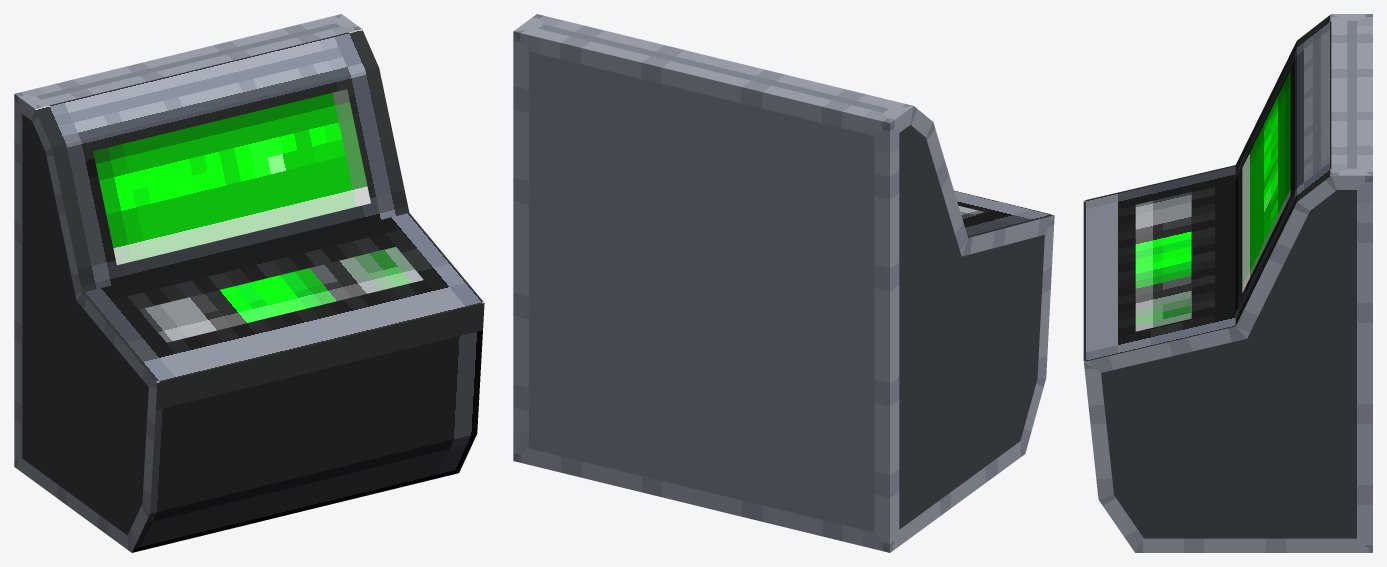
Rendered from console_standard.glb.
3 renders of one model, left to right at view 1: azimuth 30°, elevation 25°; view 2: azimuth 150°, elevation 25°; view 3: azimuth 270°, elevation 25°, orthographic. The views are drawn at different scales.
Parts seen in each view (by area): view 1: Body, Screen_Overlay, Keyboard_Overlay; view 2: Body; view 3: Body, Keyboard_Overlay, Screen_Overlay.
Part boxes in pixels (box(x1,y1,x2,y2)): Body: box(14, 14, 484, 552); Screen_Overlay: box(93, 89, 370, 265); Keyboard_Overlay: box(139, 247, 423, 342); Body: box(513, 14, 1054, 552); Body: box(1083, 14, 1372, 552); Keyboard_Overlay: box(1135, 192, 1191, 331); Screen_Overlay: box(1242, 70, 1290, 292).
Bounding box in the file's own units: 1.56 × 1.7 × 1.18.
Materials: 3 (3 with a texture image).
